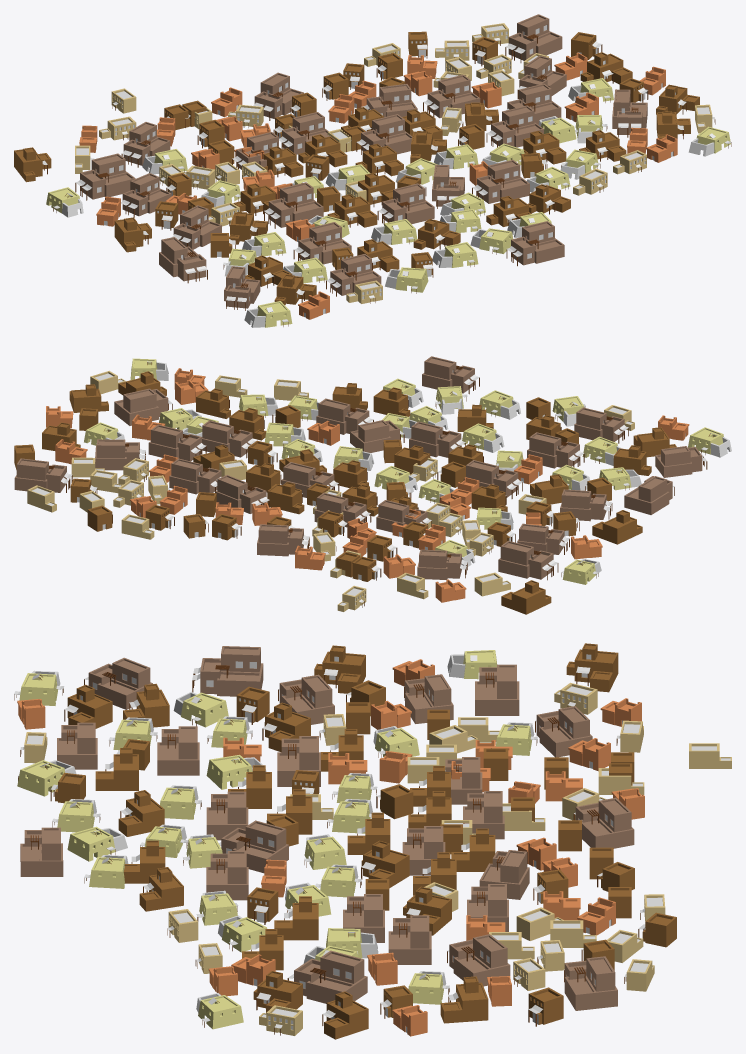
The model's file is casas2.fbx.
3 views of the same model, one above another, from view 1: azimuth 30°, elevation 25°; view 2: azimuth 150°, elevation 25°; view 3: azimuth 270°, elevation 25° (orthographic). The views are drawn at different scales.
Parts seen in each view (by area): view 1: Cube.145, Cube.095, Cube.115, Cube.155, Cube.135, Cube.070, Cube.065, Cube.045, Cube.125, Cube.160, Cube.140, Cube.085 (+92 smaller); view 2: Cube.145, Cube.115, Cube.110, Cube.095, Cube.130, Cube.160, Cube.090, Cube.125, Cube.065, Cube.060, Cube.070, Cube.080 (+109 smaller); view 3: Cube.130, Cube.065, Cube.115, Cube.090, Cube.120, Cube.040, Cube.001, Cube.145, Cube.080, Cube.095, Cube.160, Cube.110 (+116 smaller).
Boxes of the visible parts, bbox=[...] form: Cube.145: bbox=[75, 153, 135, 200]; Cube.095: bbox=[506, 221, 564, 266]; Cube.115: bbox=[505, 14, 562, 62]; Cube.155: bbox=[264, 182, 323, 228]; Cube.135: bbox=[472, 159, 529, 203]; Cube.070: bbox=[377, 183, 434, 224]; Cube.065: bbox=[159, 237, 207, 283]; Cube.045: bbox=[486, 105, 543, 147]; Cube.125: bbox=[423, 74, 480, 118]; Cube.160: bbox=[293, 222, 351, 264]; Cube.140: bbox=[356, 114, 412, 154]; Cube.085: bbox=[121, 173, 171, 217]; Cube.145: bbox=[498, 540, 558, 580]; Cube.115: bbox=[14, 458, 72, 492]; Cube.110: bbox=[148, 424, 206, 461]; Cube.095: bbox=[422, 356, 479, 394]; Cube.130: bbox=[114, 388, 172, 425]; Cube.160: bbox=[527, 432, 584, 468]; Cube.090: bbox=[257, 524, 309, 556]; Cube.125: bbox=[169, 458, 221, 494]; Cube.065: bbox=[624, 476, 674, 514]; Cube.060: bbox=[574, 407, 628, 443]; Cube.070: bbox=[409, 421, 465, 457]; Cube.080: bbox=[417, 549, 467, 579]; Cube.130: bbox=[287, 950, 367, 1003]; Cube.065: bbox=[192, 646, 263, 696]; Cube.115: bbox=[564, 956, 617, 1010]; Cube.090: bbox=[573, 797, 634, 848]; Cube.120: bbox=[447, 934, 510, 986]; Cube.040: bbox=[219, 820, 288, 873]; Cube.001: bbox=[84, 657, 152, 709]; Cube.145: bbox=[475, 664, 519, 715]; Cube.080: bbox=[535, 706, 592, 757]; Cube.095: bbox=[20, 827, 63, 876]; Cube.160: bbox=[157, 726, 199, 775]; Cube.110: bbox=[388, 915, 431, 964].
Size of the model in its own units: 50535 by 2128 by 40730.
